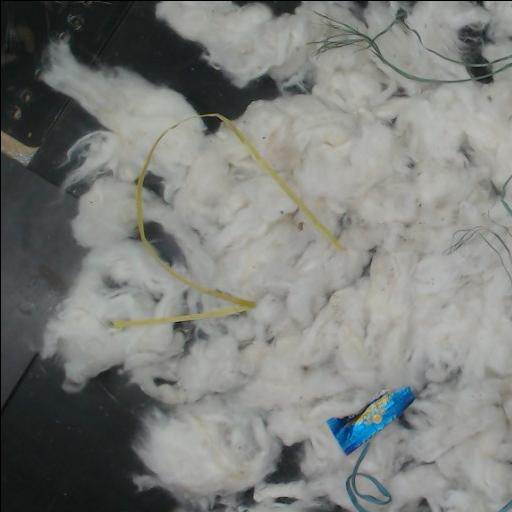conveyor belt: (1, 1, 278, 512), (146, 224, 183, 263), (266, 445, 299, 482), (144, 172, 162, 200), (267, 1, 297, 14), (234, 488, 254, 506), (203, 117, 219, 133)
cotton: (41, 1, 512, 512)
packet: (327, 387, 414, 453)
thread: (111, 123, 255, 327), (197, 113, 343, 250), (313, 17, 512, 84), (446, 221, 512, 289), (345, 442, 391, 512), (499, 173, 512, 223), (497, 498, 512, 512), (498, 498, 512, 512)
